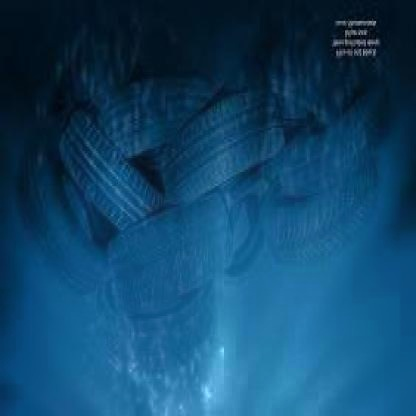tire: (274, 114, 390, 251), (109, 193, 238, 309), (49, 107, 152, 242), (150, 86, 278, 193), (100, 63, 210, 158)
